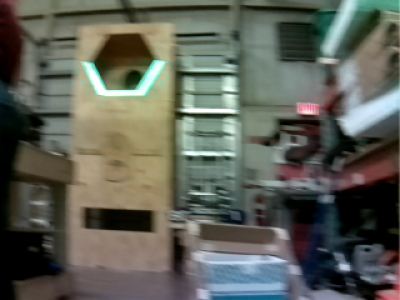target: (80, 60, 169, 96)
